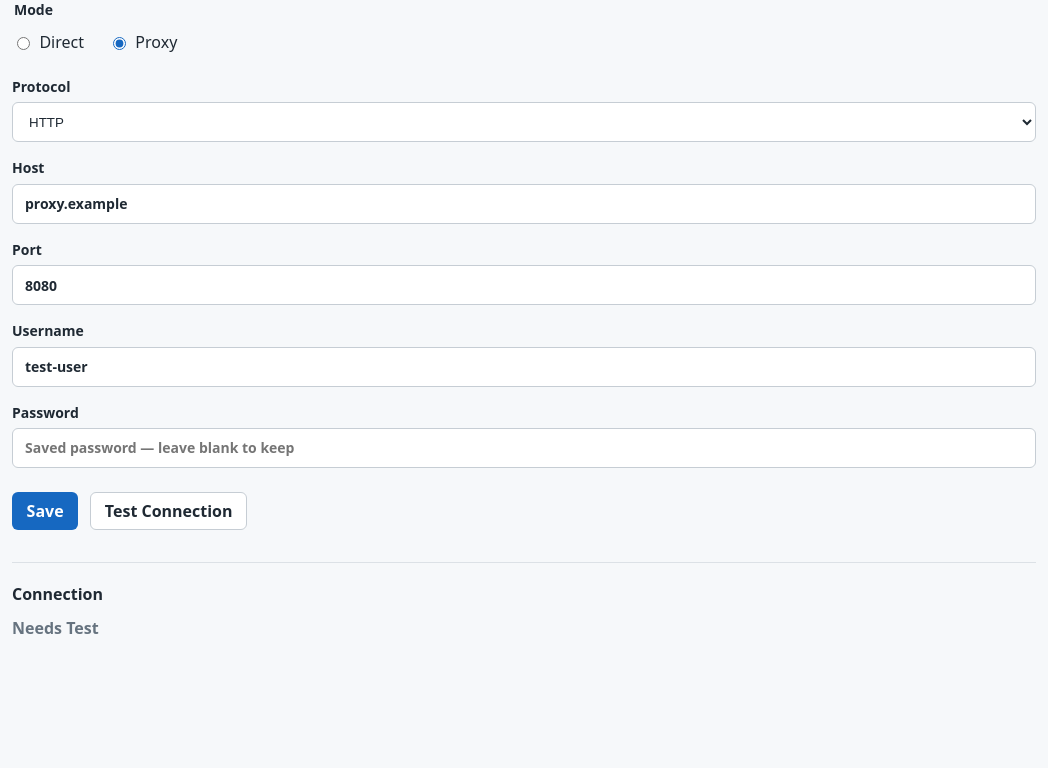
Scenario: tests saved proxy and shows backend locality
The image size is (1048, 768).
expect the text "Needs Test" is shown: met, box [12,617,99,639]
Click the button "Test Connection" at (169, 511), box [90,492,247,530]
(page scrolled)
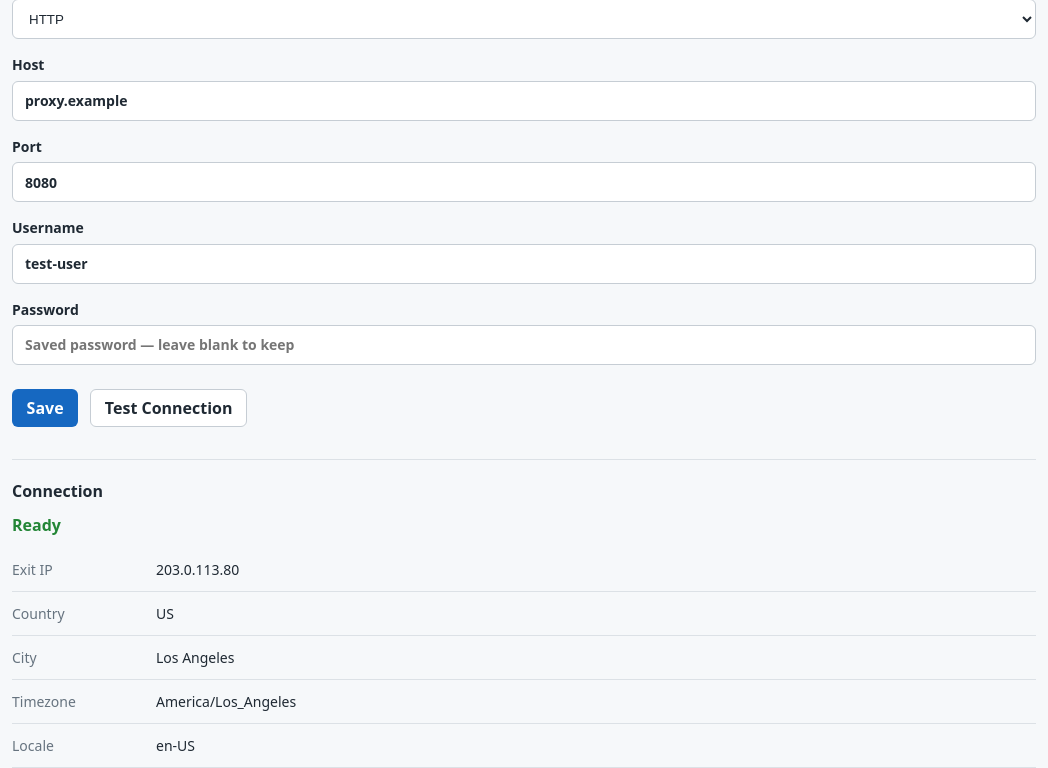
expect the text "Ready" is shown: met, box [12,514,61,536]
expect the text "203.0.113.80" is shown: met, box [156,560,239,579]
expect the text "US" is shown: met, box [156,604,174,623]
